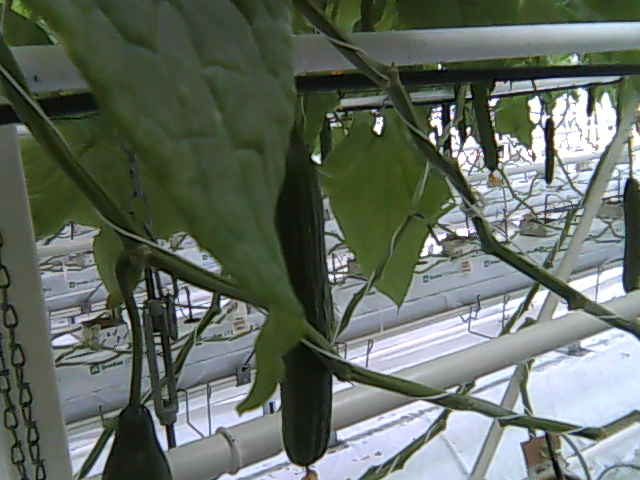concombre: (275, 108, 339, 480), (96, 397, 175, 480)
